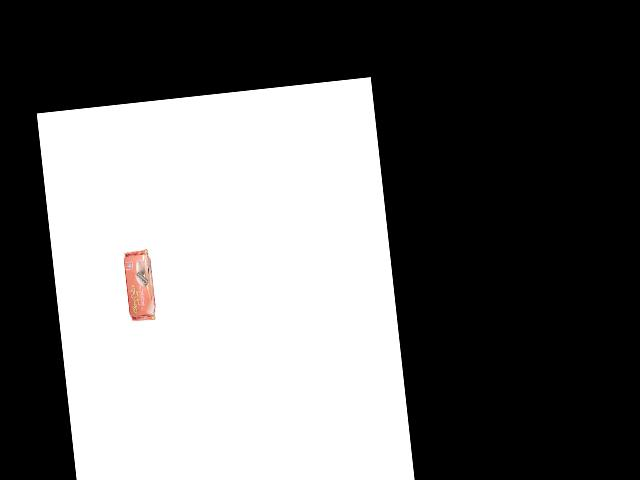chocolate: (122, 247, 163, 322)
